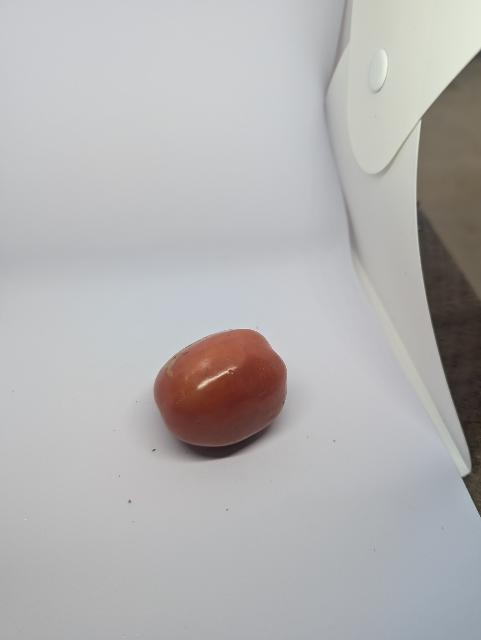red: (149, 325, 295, 451)
